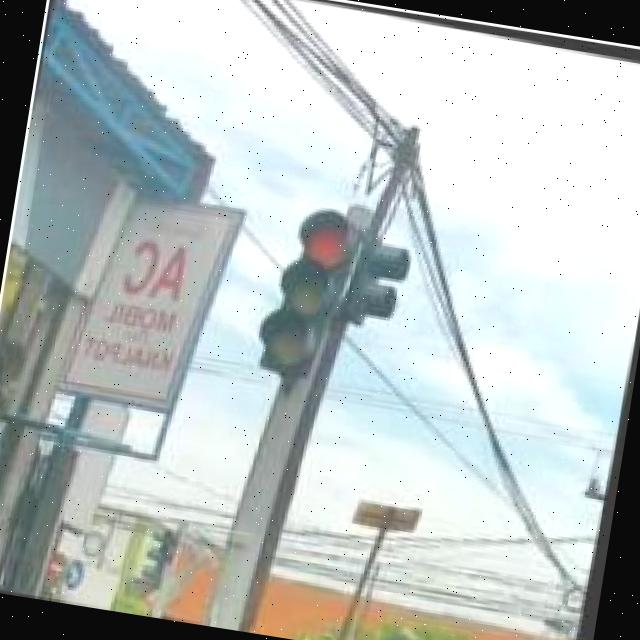red_light: (256, 193, 371, 399)
